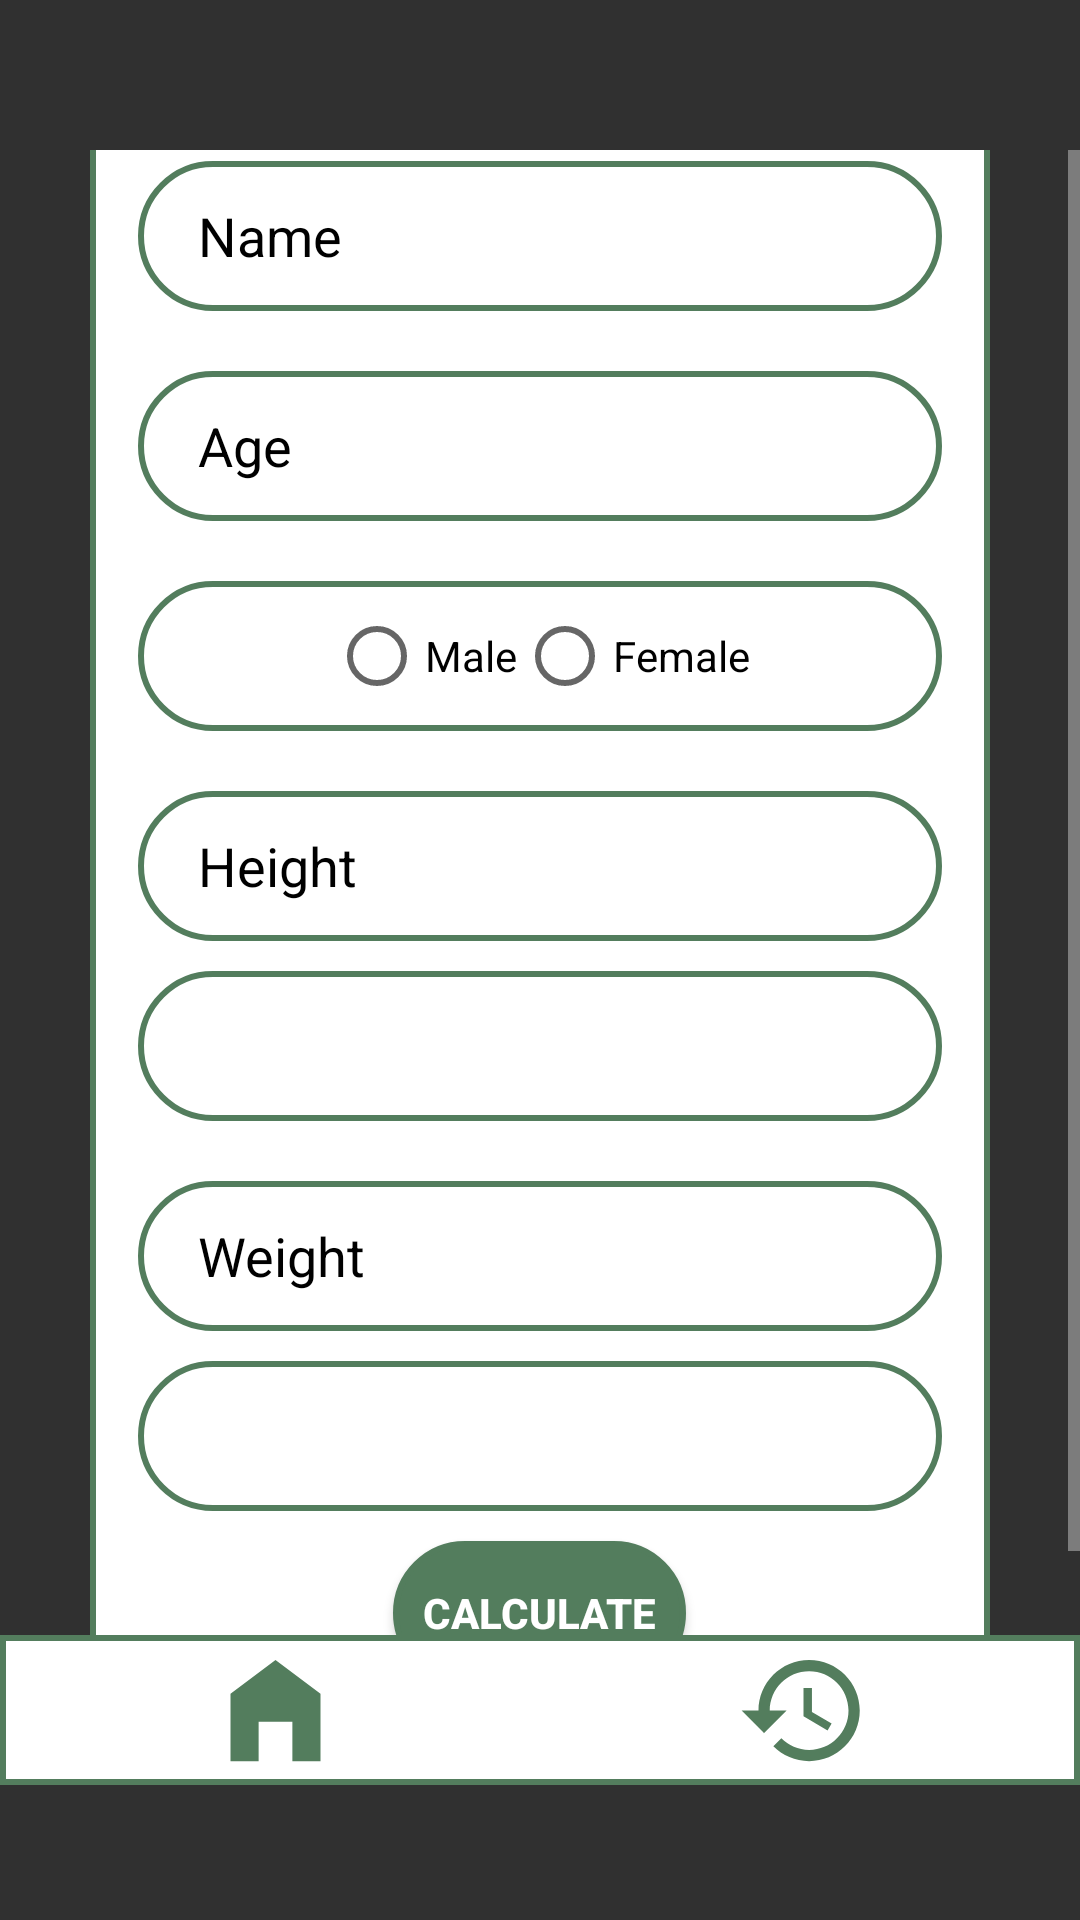

Where icons sit on this 1080 × 1920 app screen, as (x1, y1, x2, y2):
history: (742, 1660, 860, 1762)
home: (230, 1660, 321, 1762)
